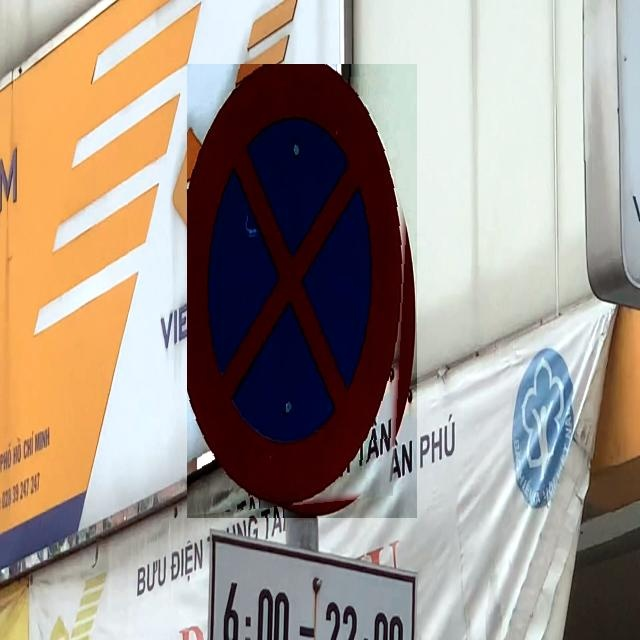bien_cam: (188, 64, 418, 518)
